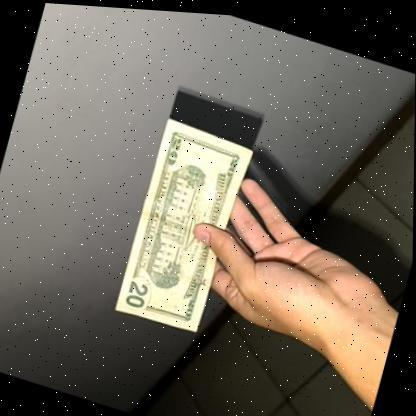twenty-back: (112, 108, 258, 340)
